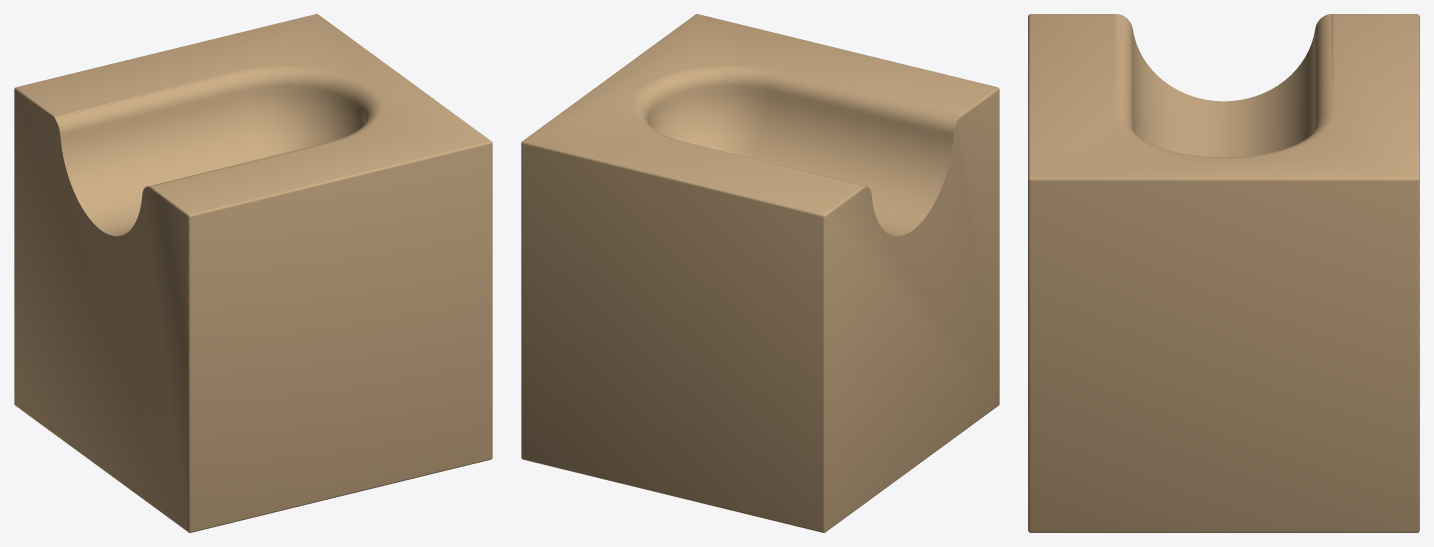
File: blk_end_l3.glb
3 views of the same model, side by side, from view 1: azimuth 30°, elevation 25°; view 2: azimuth 150°, elevation 25°; view 3: azimuth 270°, elevation 25° (orthographic). The views are drawn at different scales.
Parts seen in each view (by area): view 1: blk_end_l3_lod0; view 2: blk_end_l3_lod0; view 3: blk_end_l3_lod0.
Boxes of the visible parts, <box> form: blk_end_l3_lod0: <box>14,14,492,532</box>; blk_end_l3_lod0: <box>521,14,999,532</box>; blk_end_l3_lod0: <box>1028,14,1419,532</box>.
Size of what is drawn, in the model's own units: 0.0596 by 0.0596 by 0.0596.
